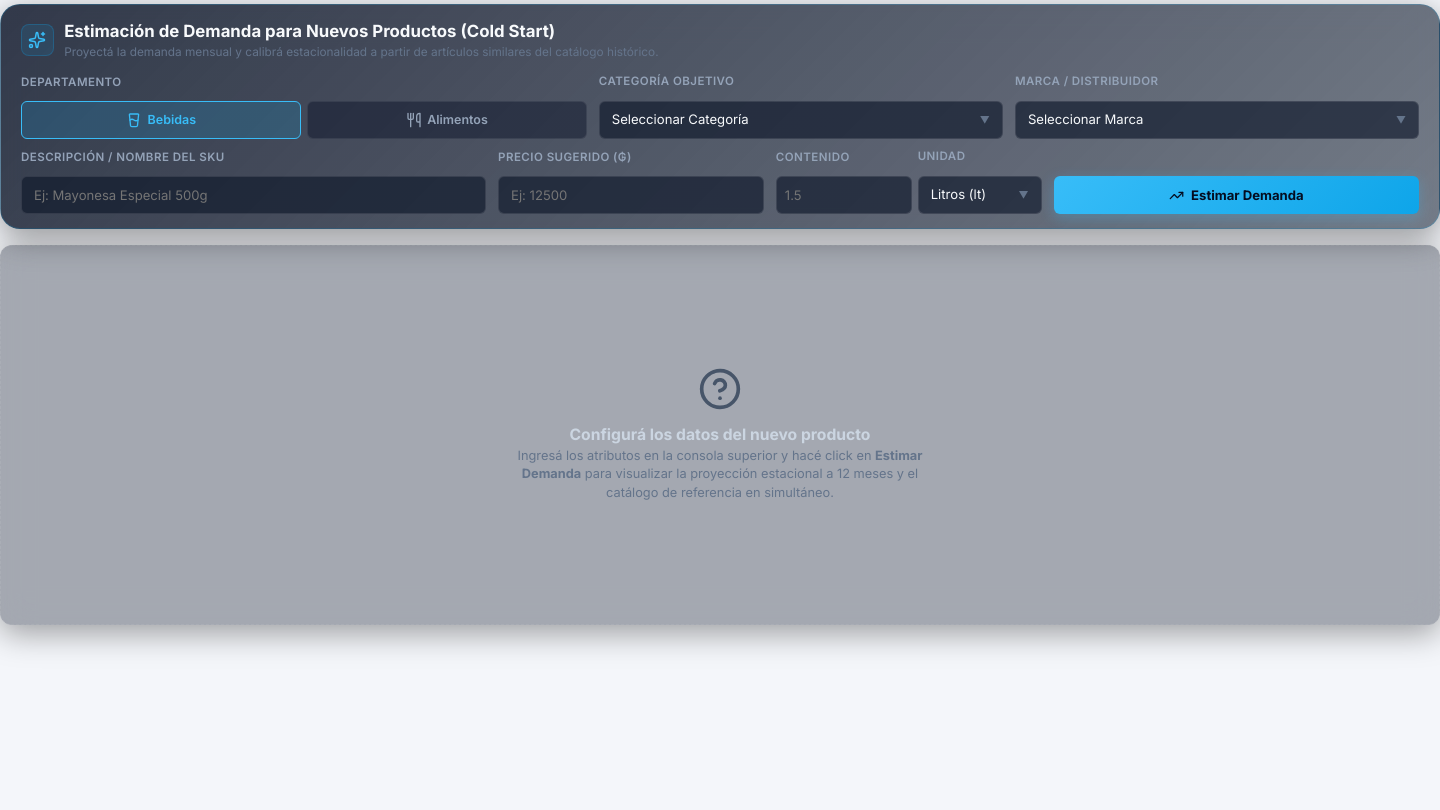
Test: ColdStartView › validaciones del formulario › exige la marca del nuevo SKU
This screenshot has width=1440, height=810.
Expected: the text "Bebidas" is shown, [148,111,196,130]
Click the text "Seleccionar Categoría".
click(680, 120)  # box [612,110,749,130]
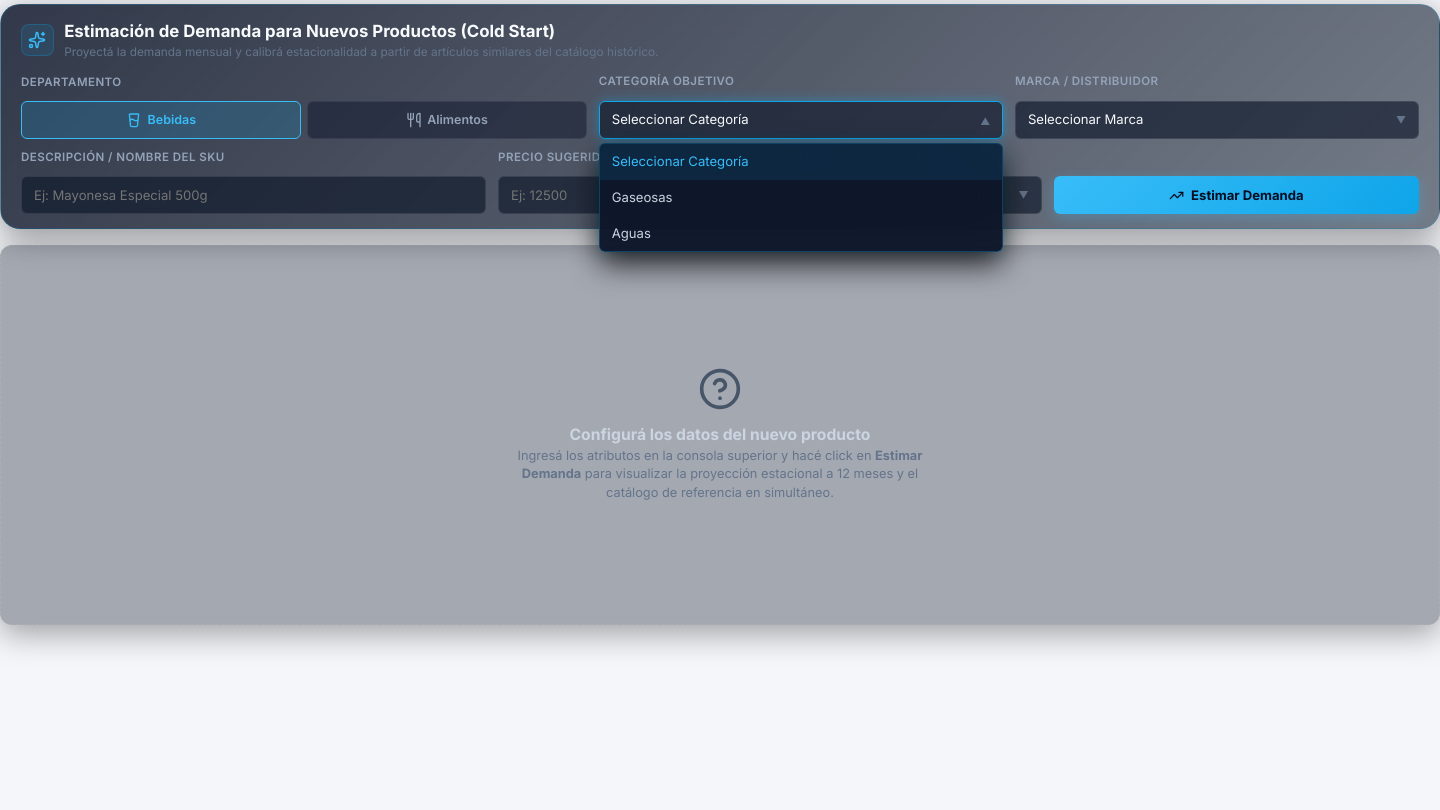
Click the text "Gaseosas".
click(642, 197)  # box [612,189,673,205]
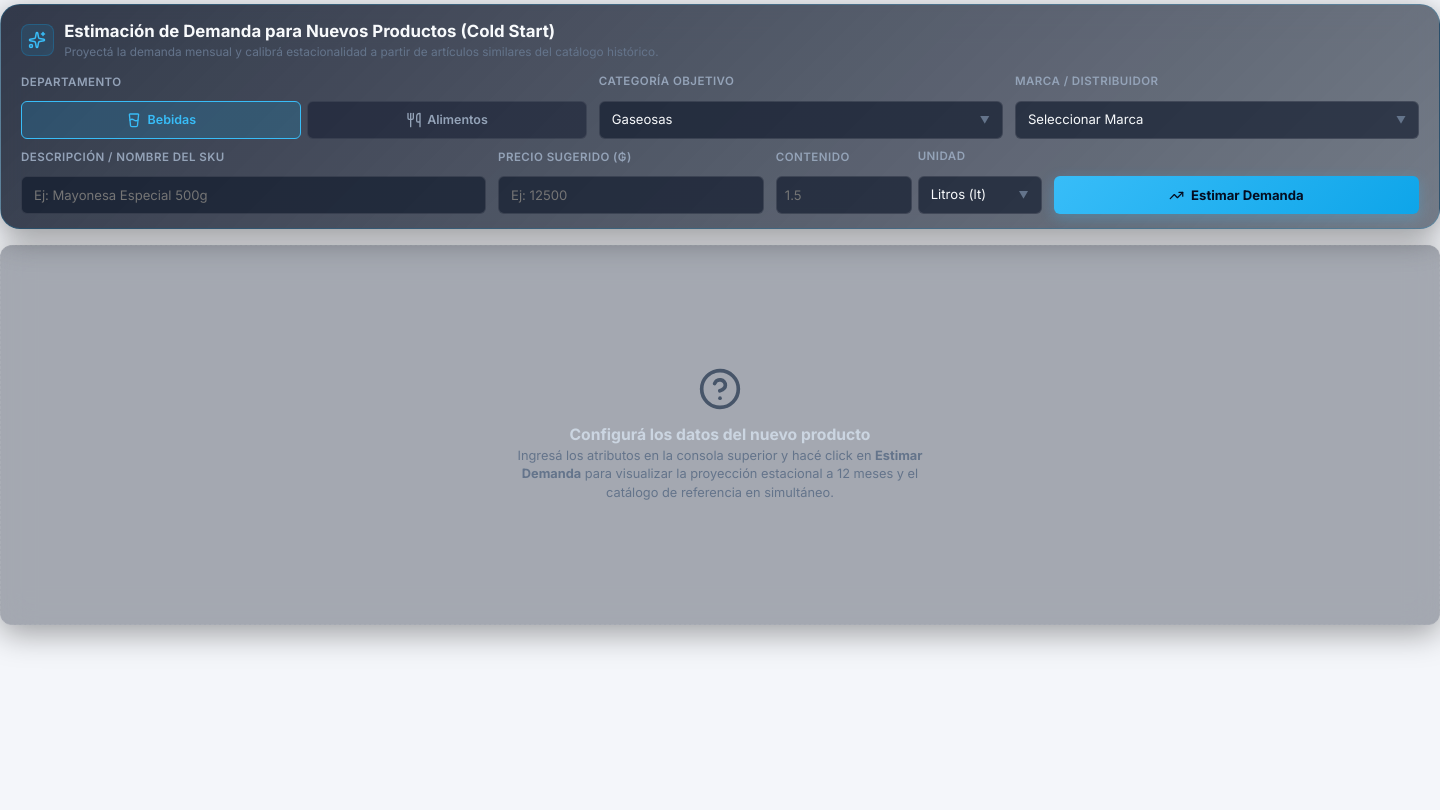
Type "Gaseosa Cola 2L" into the field with placeholder "Ej: Mayonesa Especial 500g".
click(254, 195); type("Gaseosa Cola 2L")  # box [21,176,486,214]
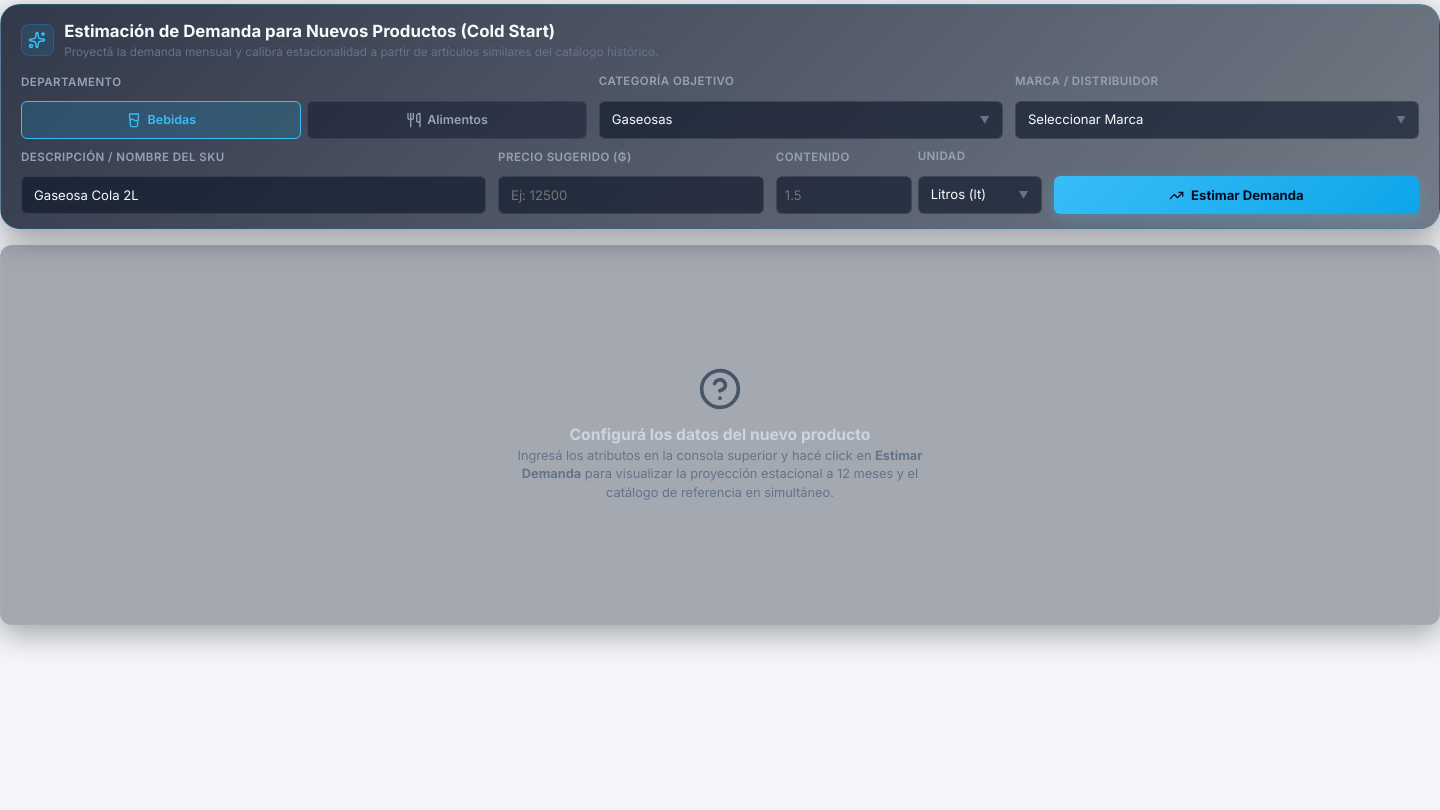
Submit the form named "estimar demanda", box [21,74,1419,214]
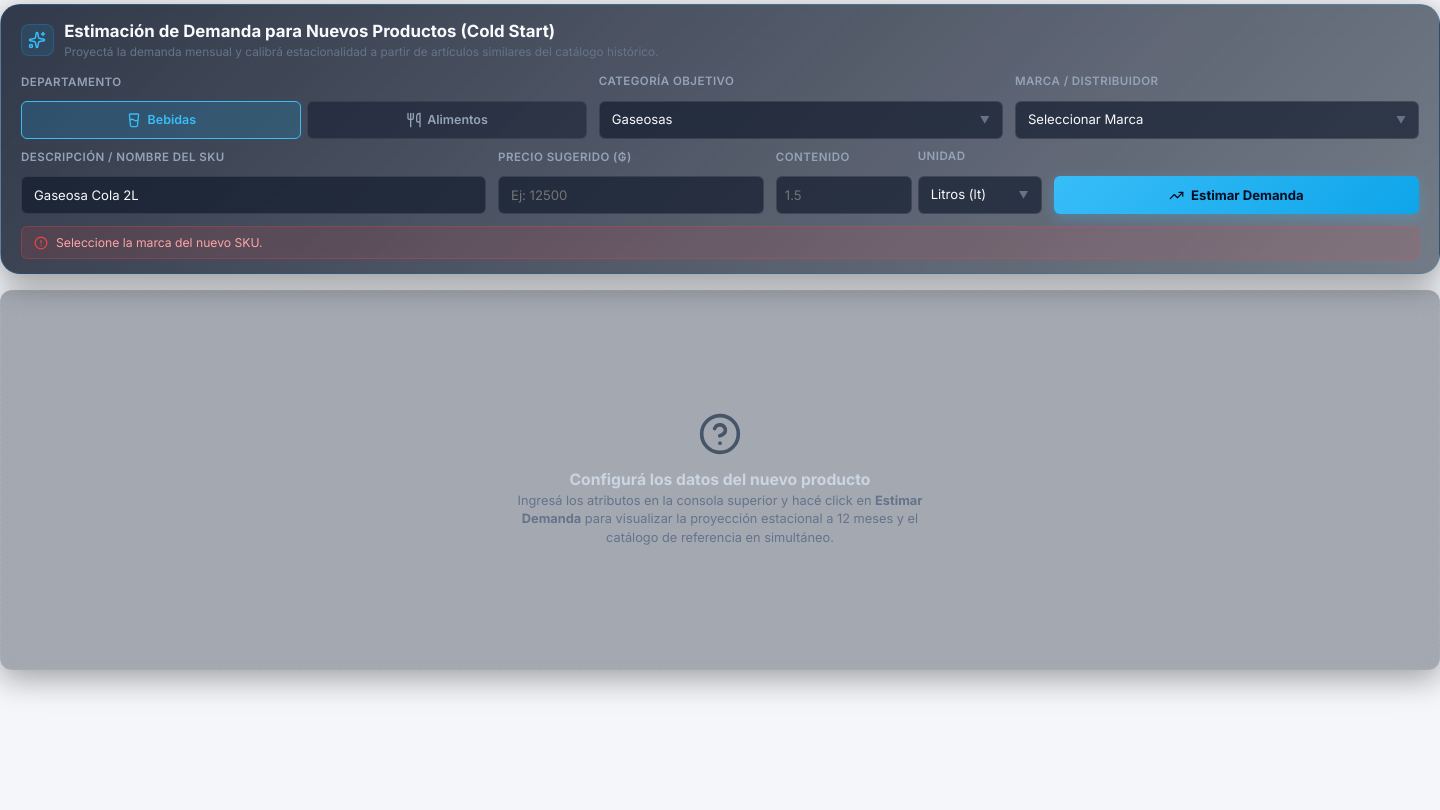
Now the text "Seleccione la marca del nuevo SKU." is shown, box [56,234,263,252]
